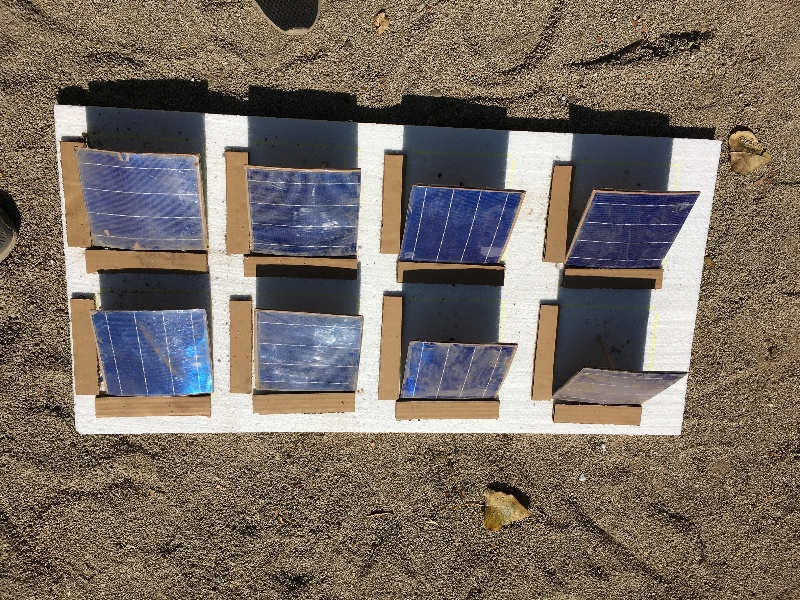clean: (564, 188, 701, 273), (85, 312, 216, 394), (398, 183, 521, 266)
dirty: (403, 341, 517, 402), (555, 371, 682, 411)
semi: (67, 148, 210, 255), (244, 167, 358, 256), (256, 309, 361, 392)
